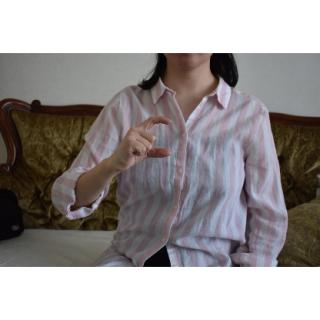DELL: (108, 112, 176, 173)
